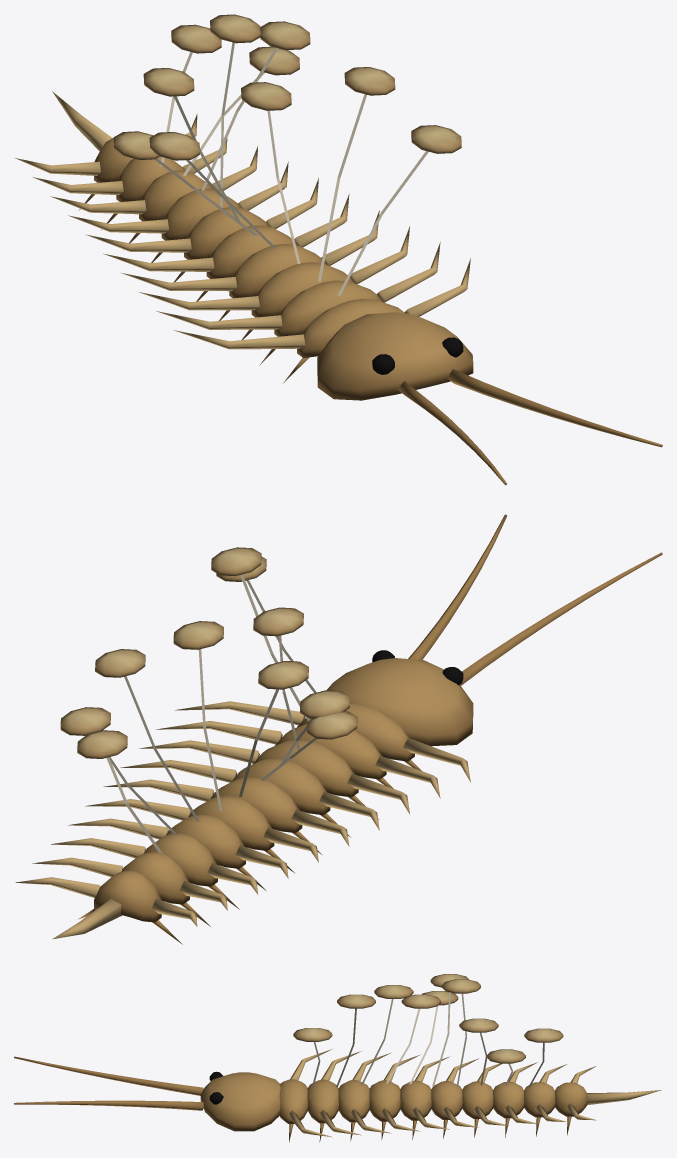
The model's file is AquiloniferSpinosus.fbx.
3 views of the same model, one above another, from view 1: azimuth 30°, elevation 25°; view 2: azimuth 150°, elevation 25°; view 3: azimuth 270°, elevation 25° (orthographic). The views are drawn at different scales.
Parts seen in each view (by area): view 1: AquiloniferSpinosus; view 2: AquiloniferSpinosus; view 3: AquiloniferSpinosus.
Part boxes in pixels (<box>): AquiloniferSpinosus: <box>15,14,662,485</box>; AquiloniferSpinosus: <box>15,514,662,944</box>; AquiloniferSpinosus: <box>14,974,661,1142</box>.
Size of the model in its own units: 0.612 by 0.4618 by 1.89.
